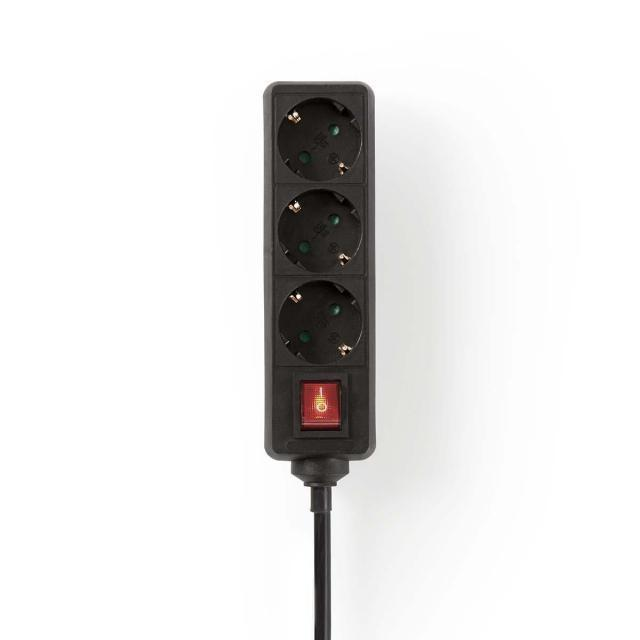typeb: (258, 89, 374, 452)
